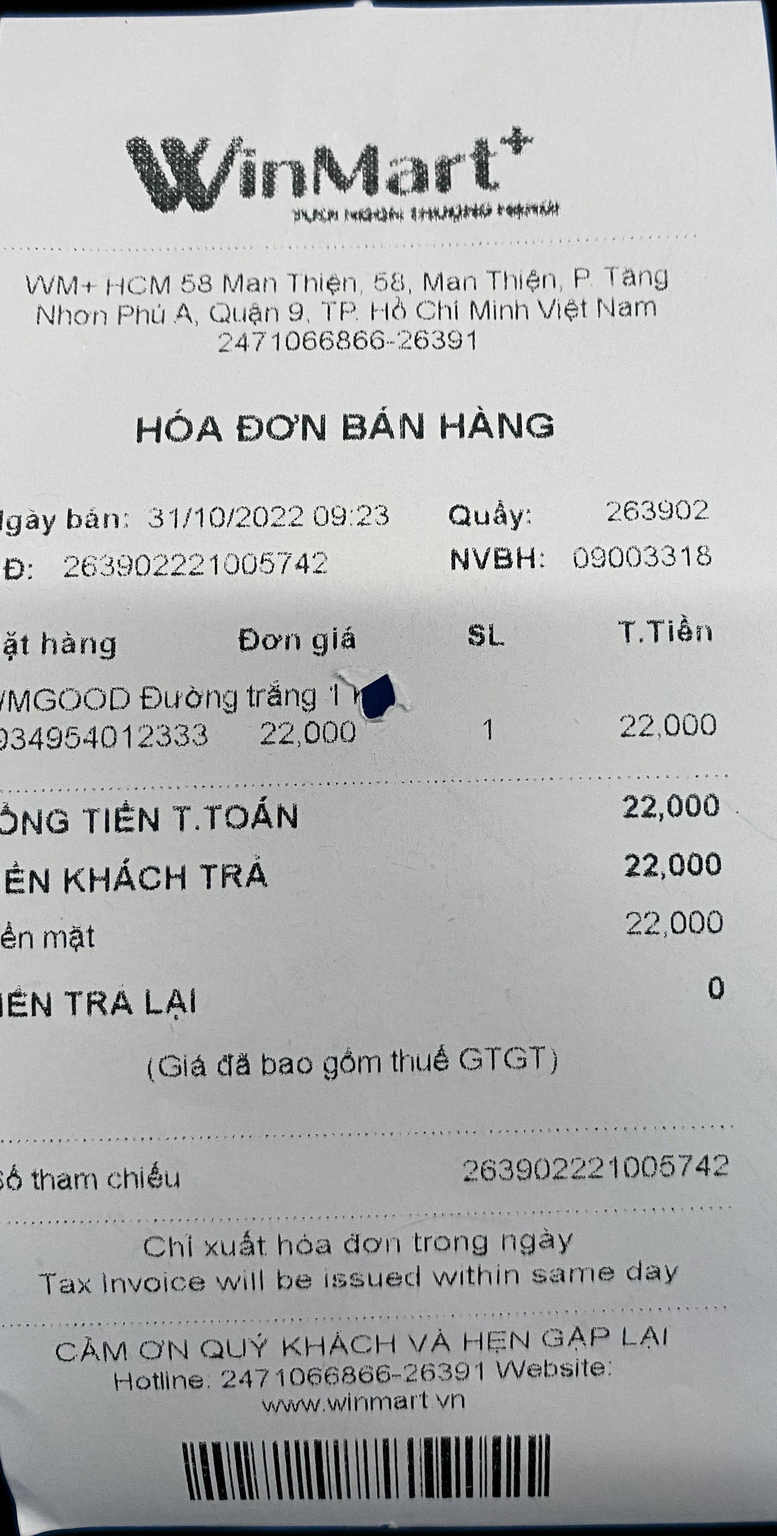Date: (142, 496, 312, 541)
Store_Name: (89, 109, 588, 228)
Total_Amount: (0, 779, 754, 846)
